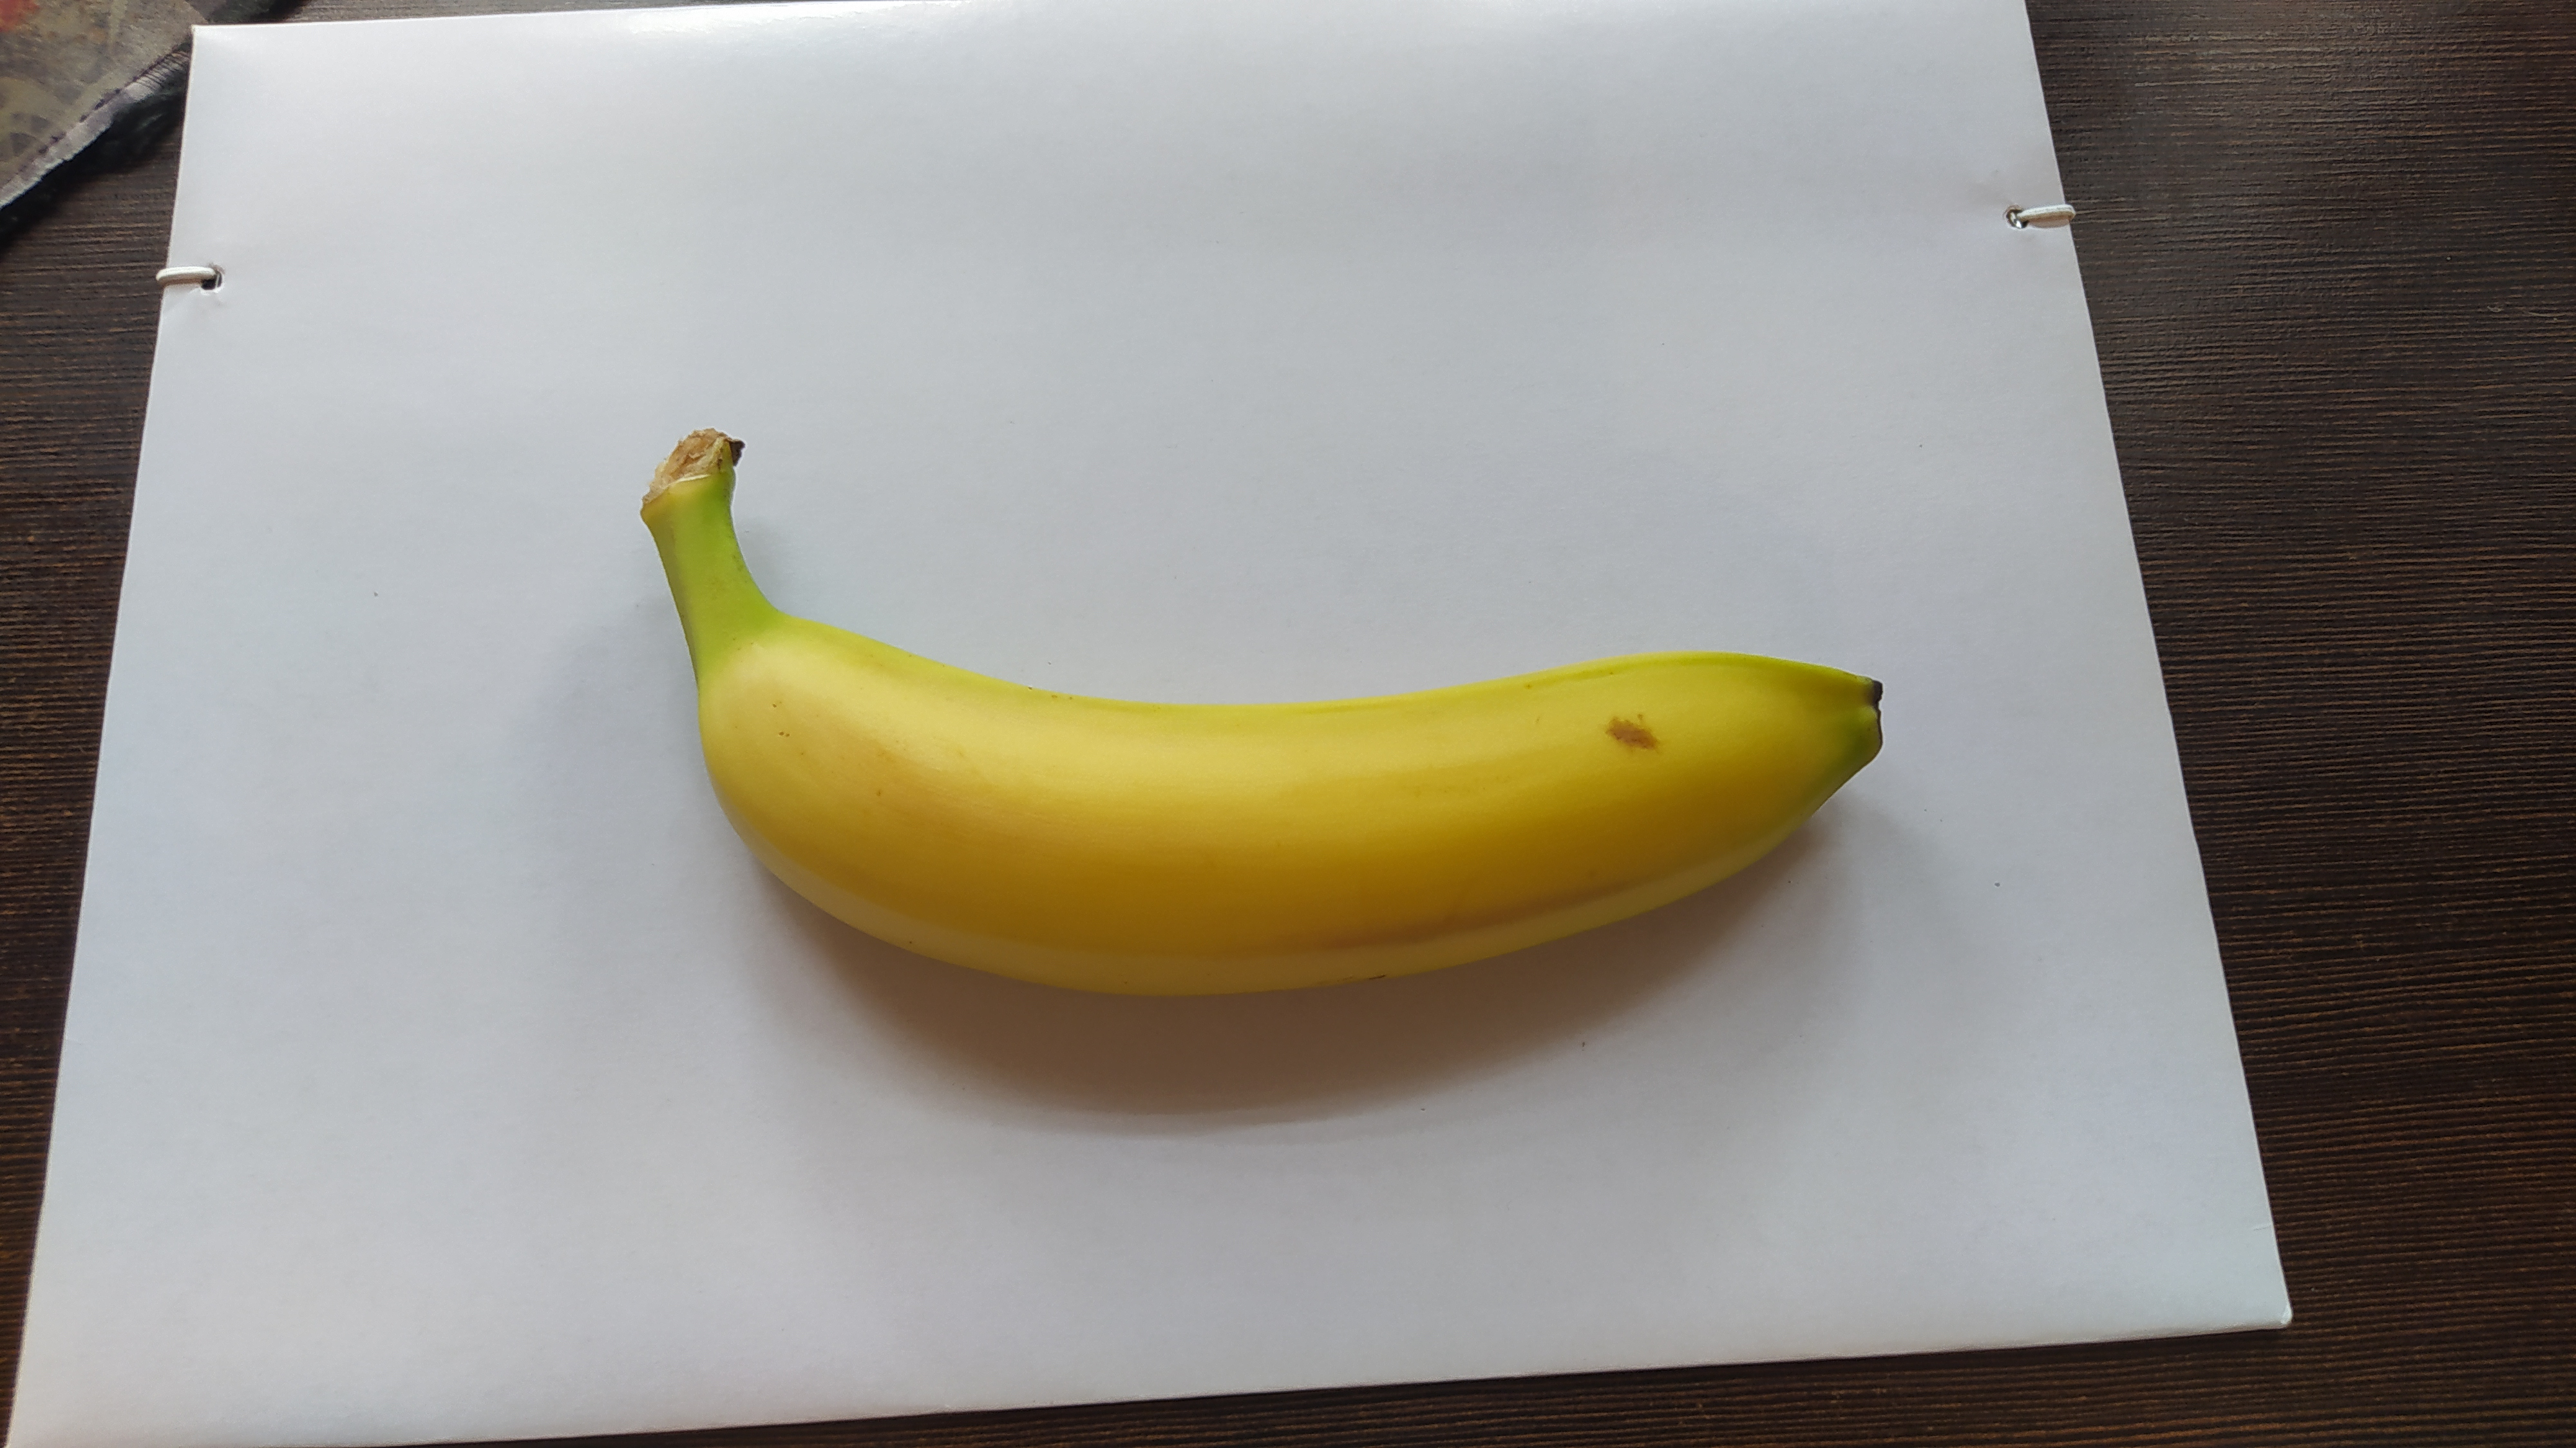banana: (639, 427, 1888, 1005)
